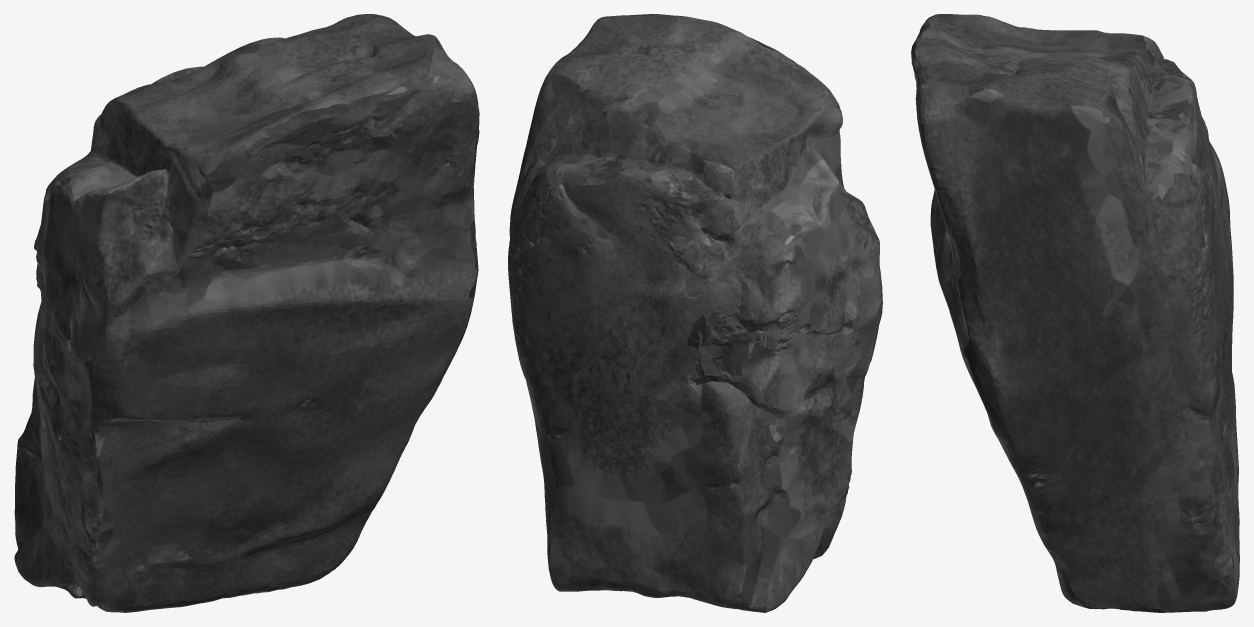
The model's file is world_C1.obj.
3 renders of one model, left to right at view 1: azimuth 30°, elevation 25°; view 2: azimuth 150°, elevation 25°; view 3: azimuth 270°, elevation 25°, orthographic. The views are drawn at different scales.
Visible parts, largest first — view 1: geometry_0; view 2: geometry_0; view 3: geometry_0.
Boxes of the visible parts, left/top/right/bottom form: geometry_0: left=14, top=14, right=479, bottom=612; geometry_0: left=508, top=14, right=882, bottom=612; geometry_0: left=911, top=14, right=1239, bottom=612.
Size of the model in its own units: 0.733 by 1.06 by 0.5642.
